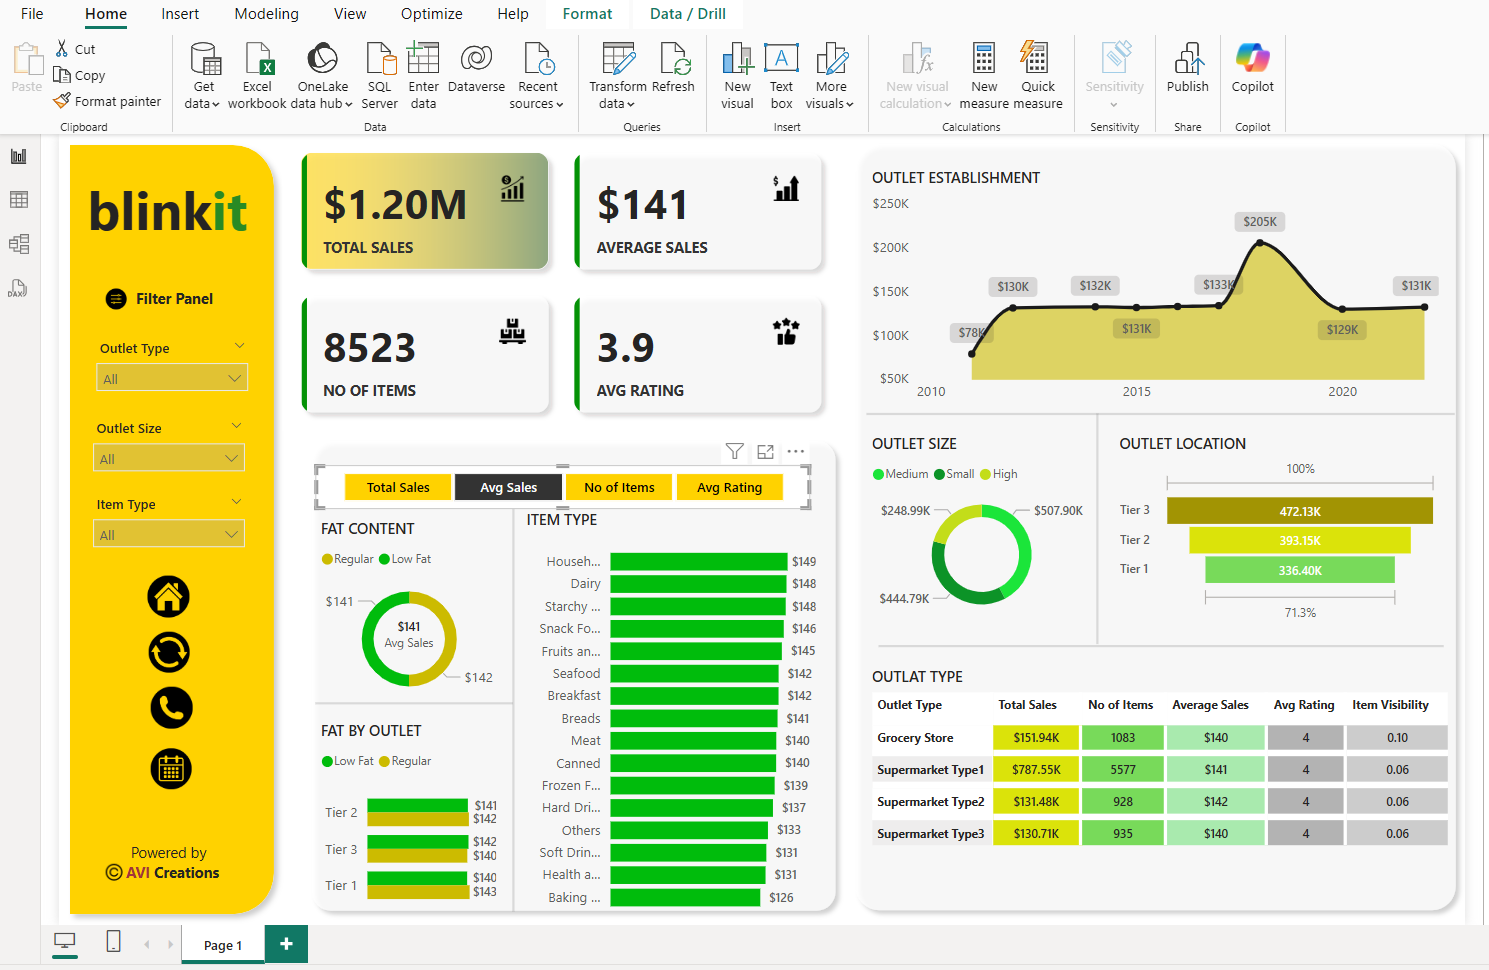

The page's visual inventory and layout, read from the dashboard file:
{"tool":"powerbi","page":{"name":"Page 1","canvas":[1280,720],"ordinal":0},"visuals":[{"type":"shape","box":[0,0,205.6,720],"z":0},{"type":"textbox","box":[21,30,165.2,75.1],"z":1000},{"type":"cardVisual","fields":{"Data":["BlinkIT Grocery Data.Total Sales","BlinkIT Grocery Data.Average Sales","BlinkIT Grocery Data.No of Items","BlinkIT Grocery Data.Avg Rating"]},"box":[205.2,0,509.6,270.3],"z":2000},{"type":"shape","box":[221.1,270,494.4,445.6],"z":3000},{"type":"donutChart","title":"FAT CONTENT","fields":{"Y":["BlinkIT Grocery Data.Total Sales"],"Category":["BlinkIT Grocery Data.Item Fat Content"]},"box":[233.3,349.4,170.2,175.2],"z":4000},{"type":"slicer","fields":{"Values":["Matrix.Matrix"]},"box":[233.3,301.3,450.5,40],"z":5000},{"type":"cardVisual","fields":{"Data":["BlinkIT Grocery Data.Total Sales"]},"box":[264.4,416.7,108.9,76.7],"z":6000},{"type":"clusteredBarChart","title":"FAT BY OUTLET","fields":{"Y":["BlinkIT Grocery Data.Total Sales"],"Category":["BlinkIT Grocery Data.Outlet Location Type"],"Series":["BlinkIT Grocery Data.Item Fat Content"]},"box":[233.3,533.3,170,182.2],"z":7000},{"type":"shape","box":[233.3,502.2,180,31.1],"z":8000},{"type":"shape","box":[407.8,341.1,12.2,366.7],"z":9000},{"type":"clusteredBarChart","title":"ITEM TYPE","fields":{"Y":["BlinkIT Grocery Data.Total Sales"],"Category":["BlinkIT Grocery Data.Item Type"]},"box":[420,341.1,273.3,374.4],"z":10000},{"type":"shape","box":[715.6,0,564.4,715.6],"z":11000},{"type":"lineChart","title":"OUTLET ESTABLISHMENT","fields":{"Category":["BlinkIT Grocery Data.Outlet Establishment Year"],"Y":["BlinkIT Grocery Data.Total Sales"]},"box":[734.4,30,525.6,222.2],"z":12000},{"type":"shape","box":[734.4,238.9,535.6,31.1],"z":13000},{"type":"donutChart","title":"OUTLET SIZE","fields":{"Y":["BlinkIT Grocery Data.Total Sales"],"Category":["BlinkIT Grocery Data.Outlet Size"]},"box":[734.4,272.3,208.9,175.6],"z":14000},{"type":"shape","box":[930,254.4,30,210],"z":15000},{"type":"funnel","title":"OUTLET LOCATION","fields":{"Y":["Sum(BlinkIT Grocery Data.Sales)"],"Category":["BlinkIT Grocery Data.Outlet Location Type"]},"box":[960,272.3,300,175.6],"z":16000},{"type":"pivotTable","title":"OUTLAT TYPE","fields":{"Rows":["BlinkIT Grocery Data.Outlet Type"],"Values":["BlinkIT Grocery Data.Total Sales","BlinkIT Grocery Data.No of Items","BlinkIT Grocery Data.Average Sales","BlinkIT Grocery Data.Avg Rating","Avg(BlinkIT Grocery Data.Item Visibility)"]},"box":[734.4,484.4,535.5,190],"z":17000},{"type":"shape","box":[745.6,450,514.4,31.1],"z":18000},{"type":"slicer","fields":{"Values":["BlinkIT Grocery Data.Outlet Size"]},"box":[21.1,254.4,157.8,73.3],"z":19000},{"type":"slicer","fields":{"Values":["BlinkIT Grocery Data.Item Type"]},"box":[21.1,323.3,157.8,73.3],"z":20000},{"type":"slicer","fields":{"Values":["BlinkIT Grocery Data.Outlet Type"]},"box":[24.4,181.1,157.8,73.3],"z":21000},{"type":"textbox","box":[65.6,135.6,101.1,37.8],"z":22000},{"type":"image","box":[36.7,135.6,30,30],"z":23000},{"type":"image","box":[75.6,396.7,48.9,48.9],"z":24000},{"type":"image","box":[66.7,447.8,66.7,47.8],"z":25000},{"type":"image","box":[76.7,497.8,50,48.9],"z":26000},{"type":"image","box":[76.7,553.3,50,47.8],"z":27000},{"type":"textbox","box":[44.4,638.9,111.1,50],"z":28000},{"type":"image","box":[36.7,658.9,25.6,25.6],"z":29000}]}

Visuals, with their boxes on the page's 1280x720 design canvas (x1, y1, x2, y2). These are canvas units, not pixel positions in the 1489x970 screenshot, which may show the page scaled, cropped or inside an application window:
shape: region(0, 0, 206, 720)
textbox: region(21, 30, 186, 105)
cardVisual - BlinkIT Grocery Data.Total Sales x BlinkIT Grocery Data.Average Sales: region(205, 0, 715, 270)
shape: region(221, 270, 716, 716)
"FAT CONTENT" donutChart: region(233, 349, 404, 525)
slicer - Matrix.Matrix: region(233, 301, 684, 341)
cardVisual - BlinkIT Grocery Data.Total Sales: region(264, 417, 373, 493)
"FAT BY OUTLET" clusteredBarChart: region(233, 533, 403, 716)
shape: region(233, 502, 413, 533)
shape: region(408, 341, 420, 708)
"ITEM TYPE" clusteredBarChart: region(420, 341, 693, 716)
shape: region(716, 0, 1280, 716)
"OUTLET ESTABLISHMENT" lineChart: region(734, 30, 1260, 252)
shape: region(734, 239, 1270, 270)
"OUTLET SIZE" donutChart: region(734, 272, 943, 448)
shape: region(930, 254, 960, 464)
"OUTLET LOCATION" funnel: region(960, 272, 1260, 448)
"OUTLAT TYPE" pivotTable: region(734, 484, 1270, 674)
shape: region(746, 450, 1260, 481)
slicer - BlinkIT Grocery Data.Outlet Size: region(21, 254, 179, 328)
slicer - BlinkIT Grocery Data.Item Type: region(21, 323, 179, 397)
slicer - BlinkIT Grocery Data.Outlet Type: region(24, 181, 182, 254)
textbox: region(66, 136, 167, 173)
image: region(37, 136, 67, 166)
image: region(76, 397, 124, 446)
image: region(67, 448, 133, 496)
image: region(77, 498, 127, 547)
image: region(77, 553, 127, 601)
textbox: region(44, 639, 156, 689)
image: region(37, 659, 62, 684)
